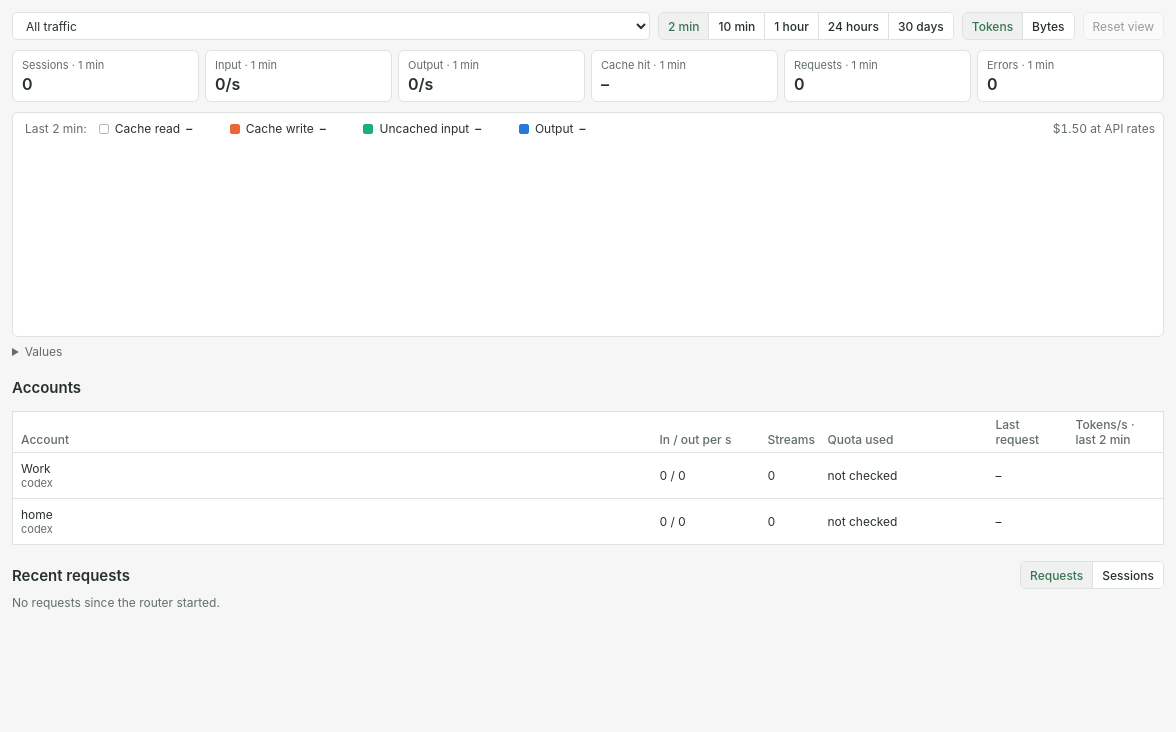
Test: DashboardTab › follows the scope, range, units and legend, and remembers them
The image size is (1176, 732).
Select "Pool · Team" in the dropdown at (331, 26), box [12,12,650,40]
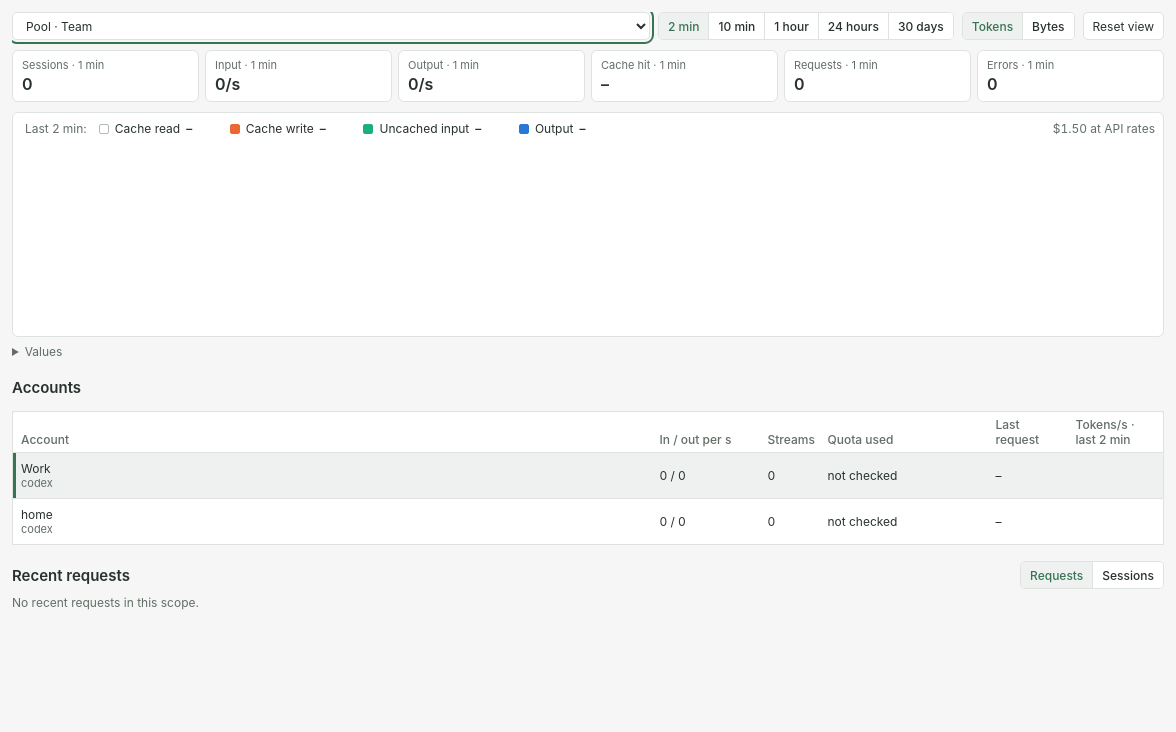
Click the button "1 hour".
click(791, 26)  # box [764,13,818,39]
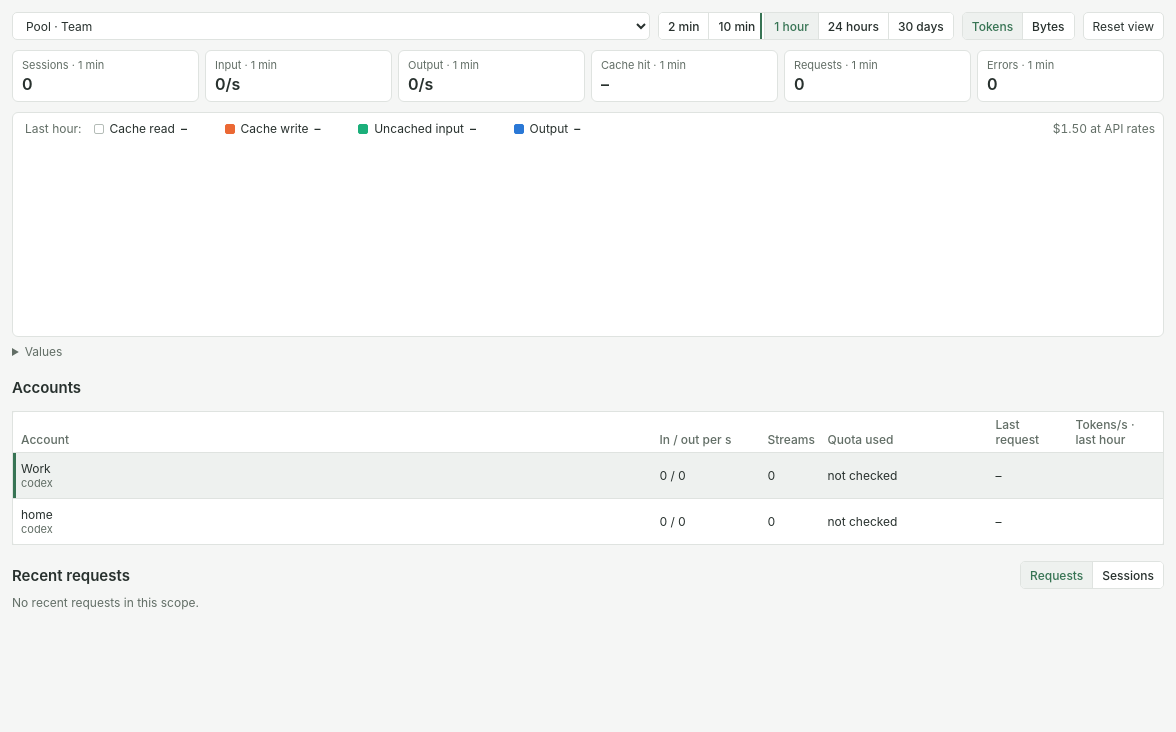
Click the button "Bytes".
click(1048, 26)  # box [1022,13,1074,39]
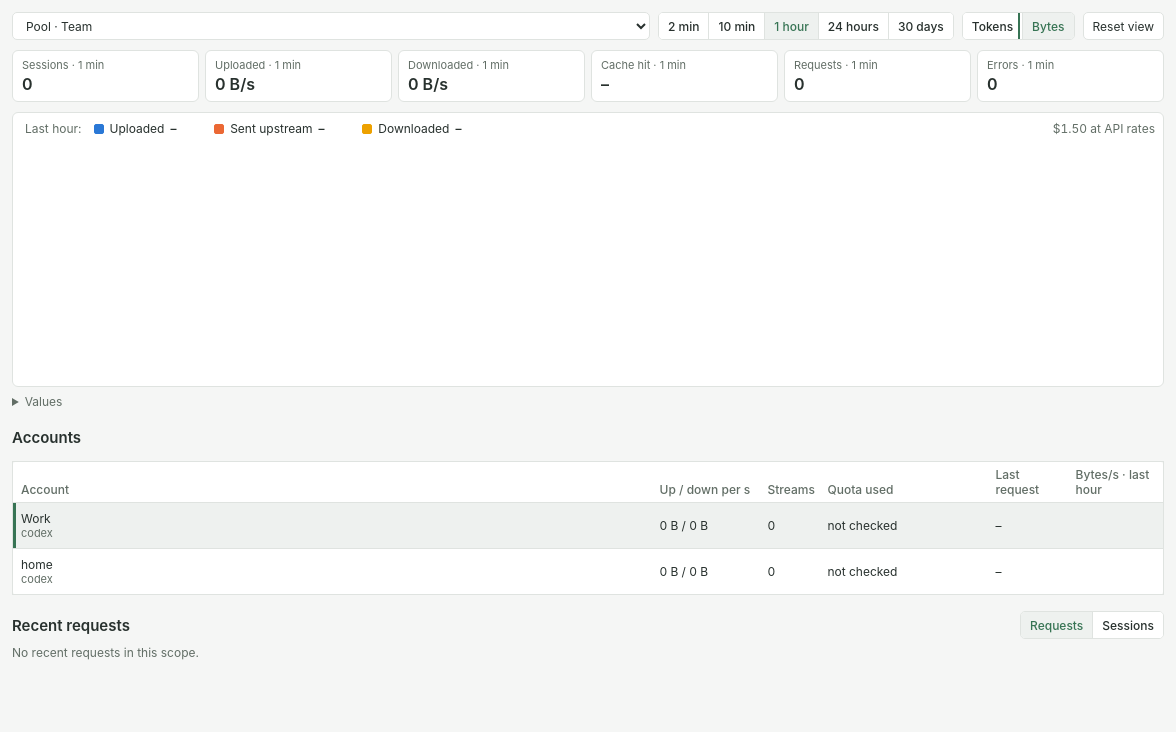
Click the button "Downloaded –".
click(425, 128)  # box [358,119,491,138]
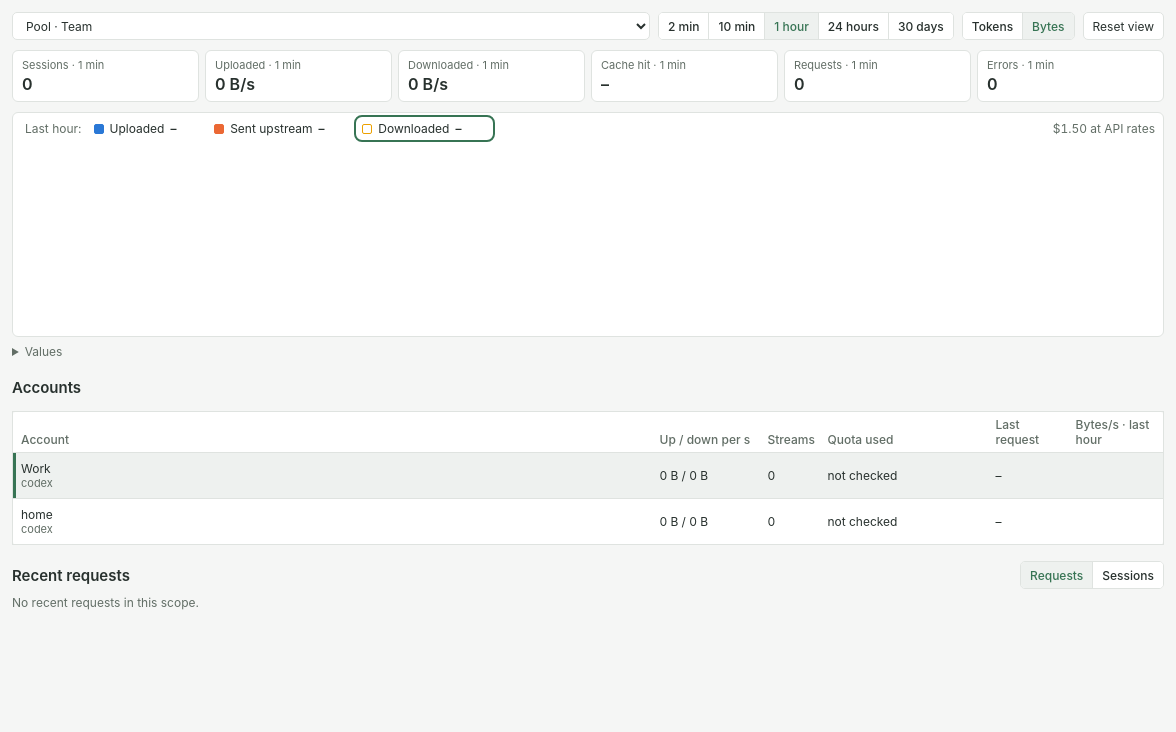
Click the button "Reset view".
click(1123, 26)  # box [1083,12,1164,40]
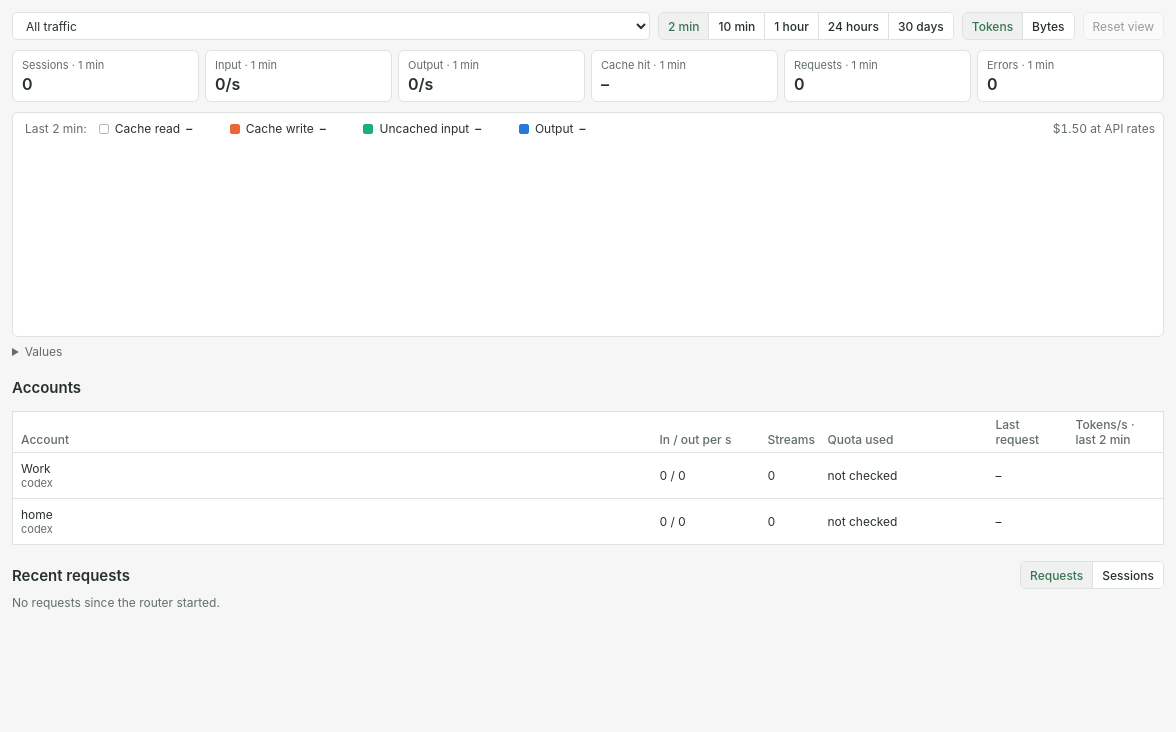
Now the button "Reset view" is disabled, box [1083,12,1164,40]
